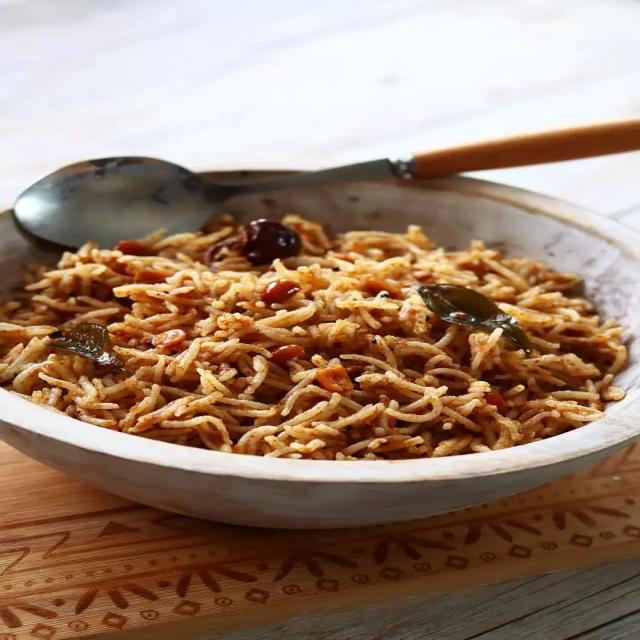puliyogare: (0, 192, 640, 469)
